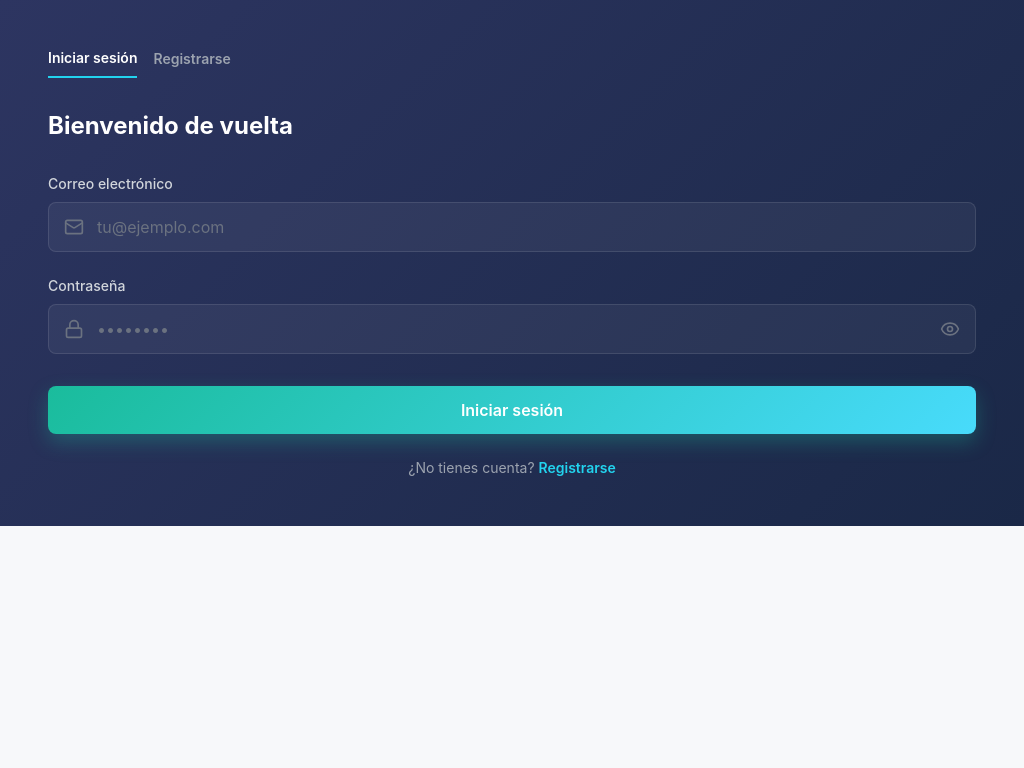
it: AuthRightPanel — accesibilidad (FE-419) › login fallido: el error se anuncia como alerta
Step 1. Type "a@b.com" into the field labelled "Correo electrónico" → (512, 227), box [48,202,976,252]
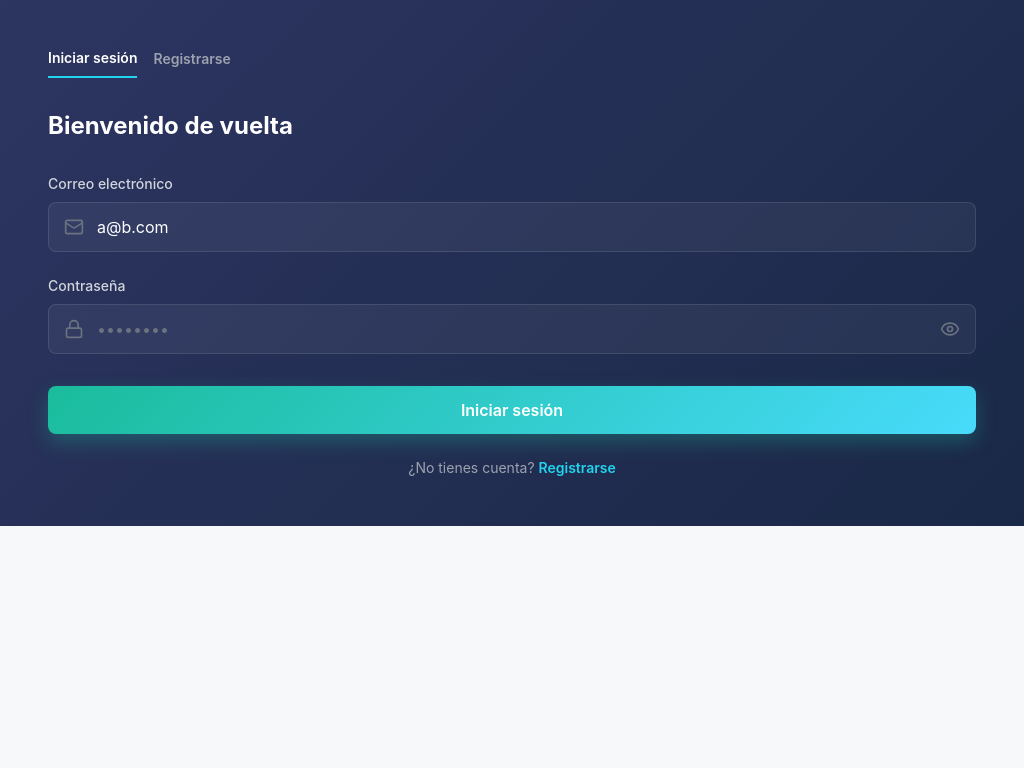
Step 2. Type "x" into the password field labelled "Contraseña" → (512, 329), box [48,304,976,354]
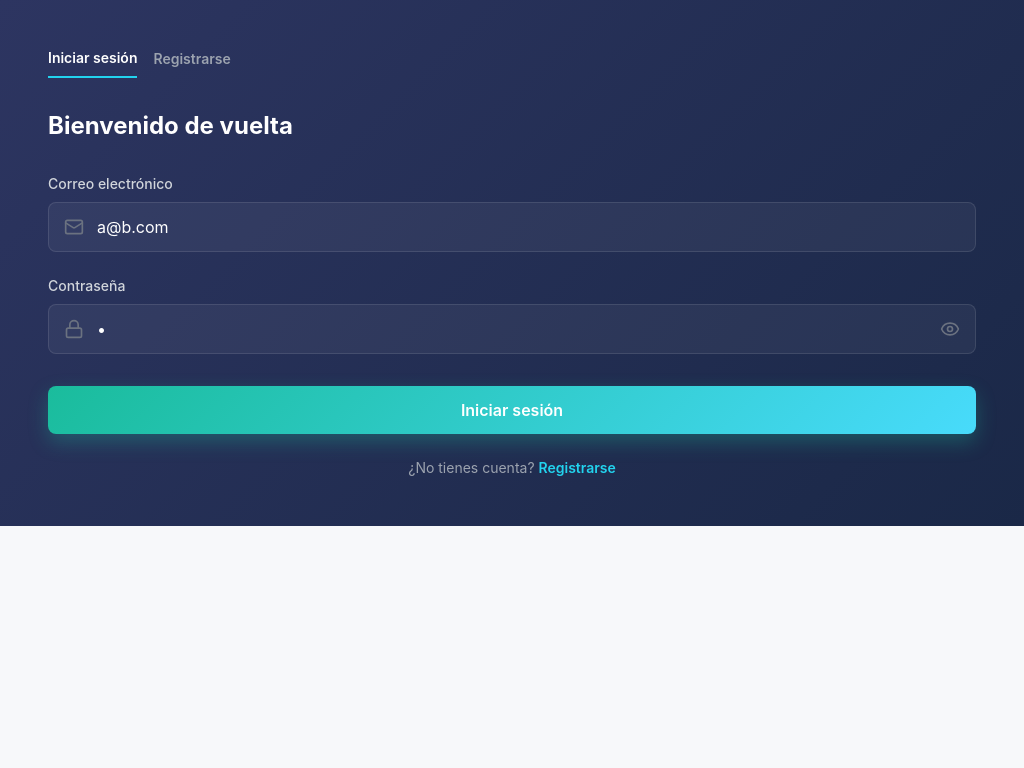
Step 3. Submit the form, box [48,110,976,478]
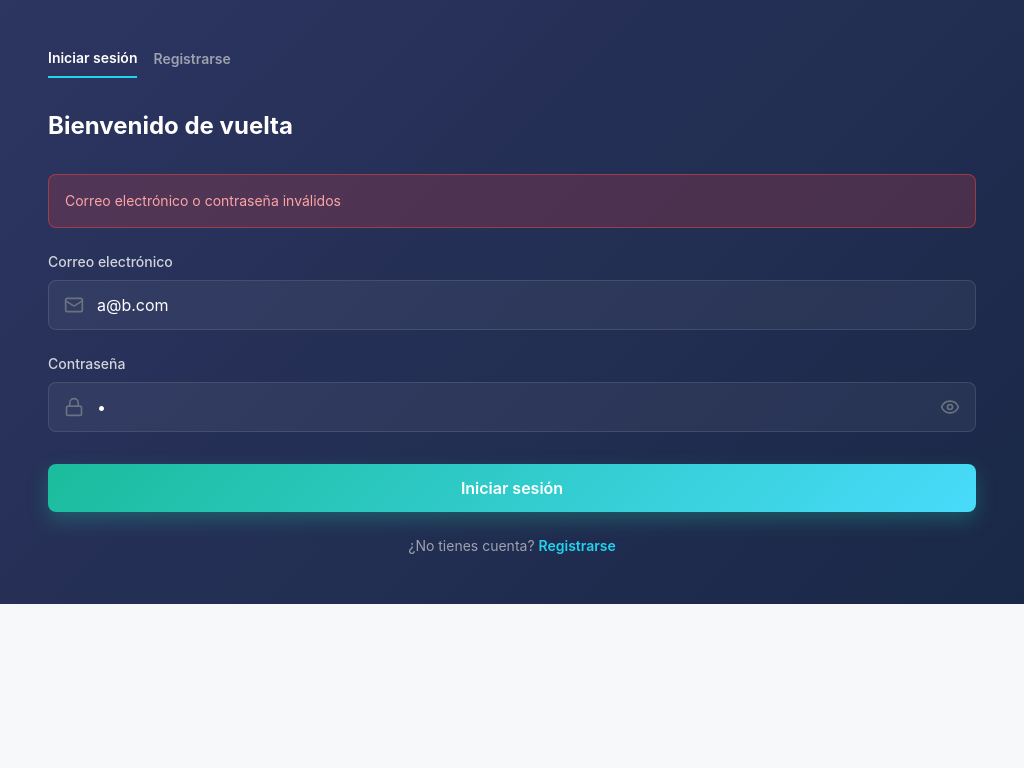
expect the message shows "inválidos": met, box [65,192,341,209]
